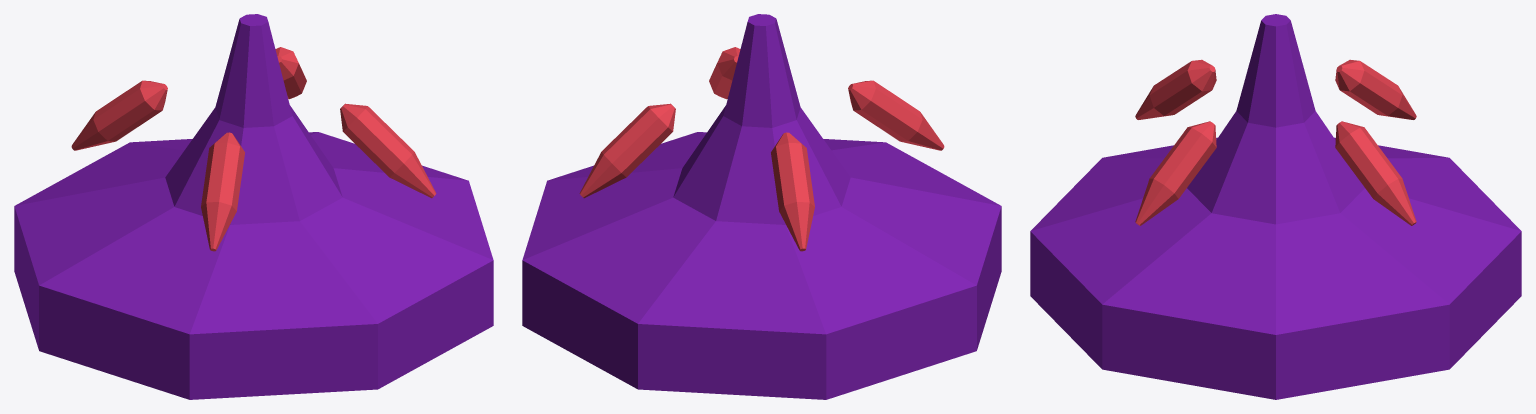
File: HeavyEnemy.fbx
The picture shows the model from 3 angles, left to right: view 1: azimuth 30°, elevation 25°; view 2: azimuth 150°, elevation 25°; view 3: azimuth 270°, elevation 25°; orthographic projection.
Parts seen in each view (by area): view 1: HeavyEnemyMain, HeavyEnemySmallCrystals; view 2: HeavyEnemyMain, HeavyEnemySmallCrystals; view 3: HeavyEnemyMain, HeavyEnemySmallCrystals.
Part boxes in pixels (x1,y1,x2,y2): HeavyEnemyMain: [14, 14, 493, 399]; HeavyEnemySmallCrystals: [71, 47, 436, 251]; HeavyEnemyMain: [522, 14, 1001, 399]; HeavyEnemySmallCrystals: [579, 47, 944, 251]; HeavyEnemyMain: [1030, 14, 1521, 399]; HeavyEnemySmallCrystals: [1135, 59, 1416, 225].
Size of the model in its own units: 160 by 115 by 160.
